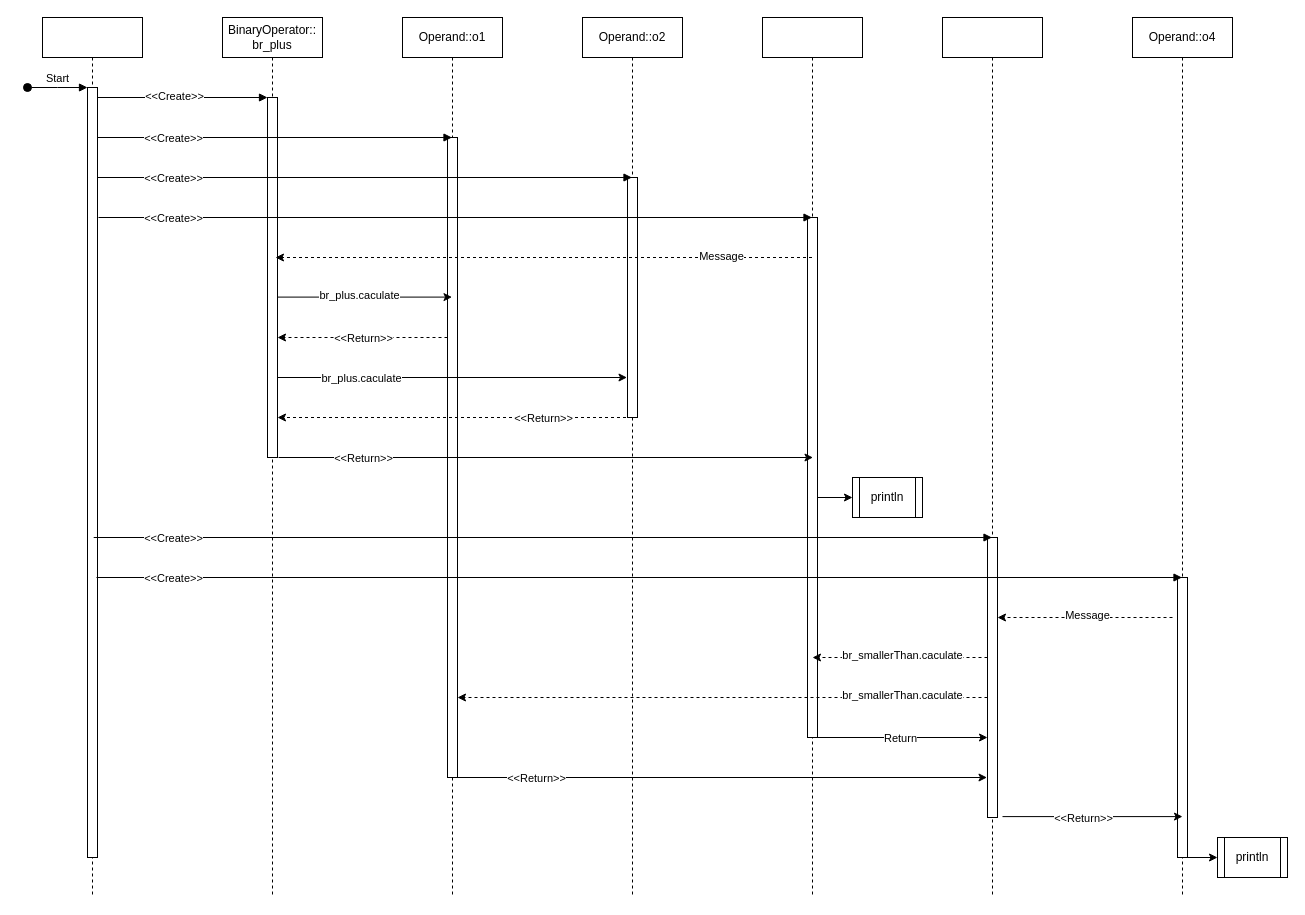
Some shapes in this 1305 by 915 pixel diagram are drawn without their labels. The shapes that lost their labels are listed below. From the top down, each one's box as (x1, y1, x2, y2) in pixels, then its label:
(42, 16, 142, 898): :Object
(762, 16, 862, 898): Operand::o3
(942, 16, 1042, 898): BinaryOperator:: br_smallerThan
